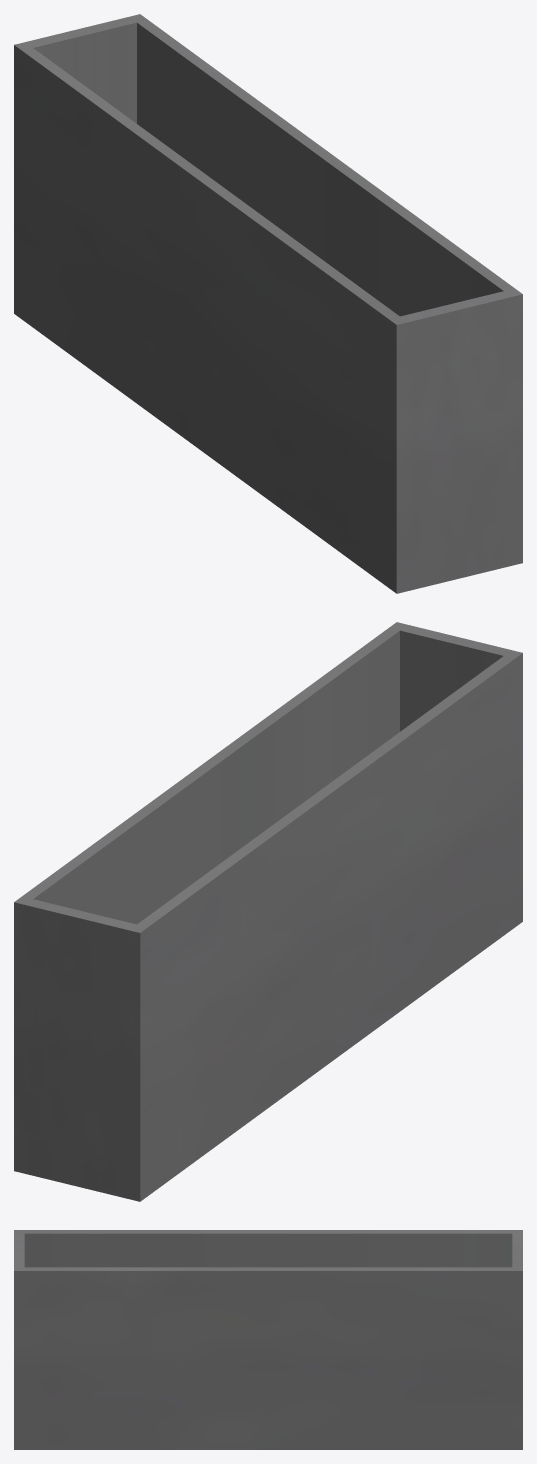
3 views of the same model, one above another, from view 1: azimuth 30°, elevation 25°; view 2: azimuth 150°, elevation 25°; view 3: azimuth 270°, elevation 25° (orthographic). The views are drawn at different scales.
Visible parts, largest first — view 1: 水槽; view 2: 水槽; view 3: 水槽.
Part boxes in pixels (x1,y1,x2,y2): 水槽: (14, 14, 522, 593); 水槽: (14, 622, 522, 1201); 水槽: (14, 1230, 522, 1449).
Bounding box in the file's own units: 8.57 × 17.44 × 45.
Materials: 1 (1 with a texture image).
